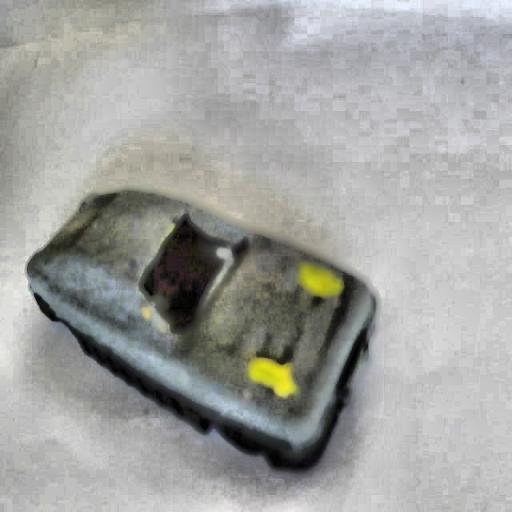normal_car: (24, 181, 381, 474)
